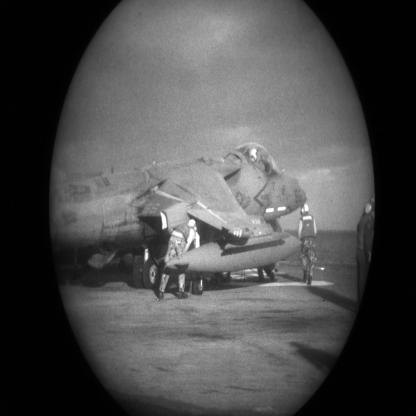AV8B: (50, 144, 308, 297)
